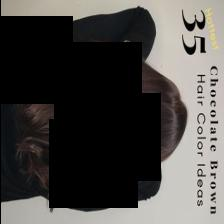brown: (12, 43, 186, 206)
